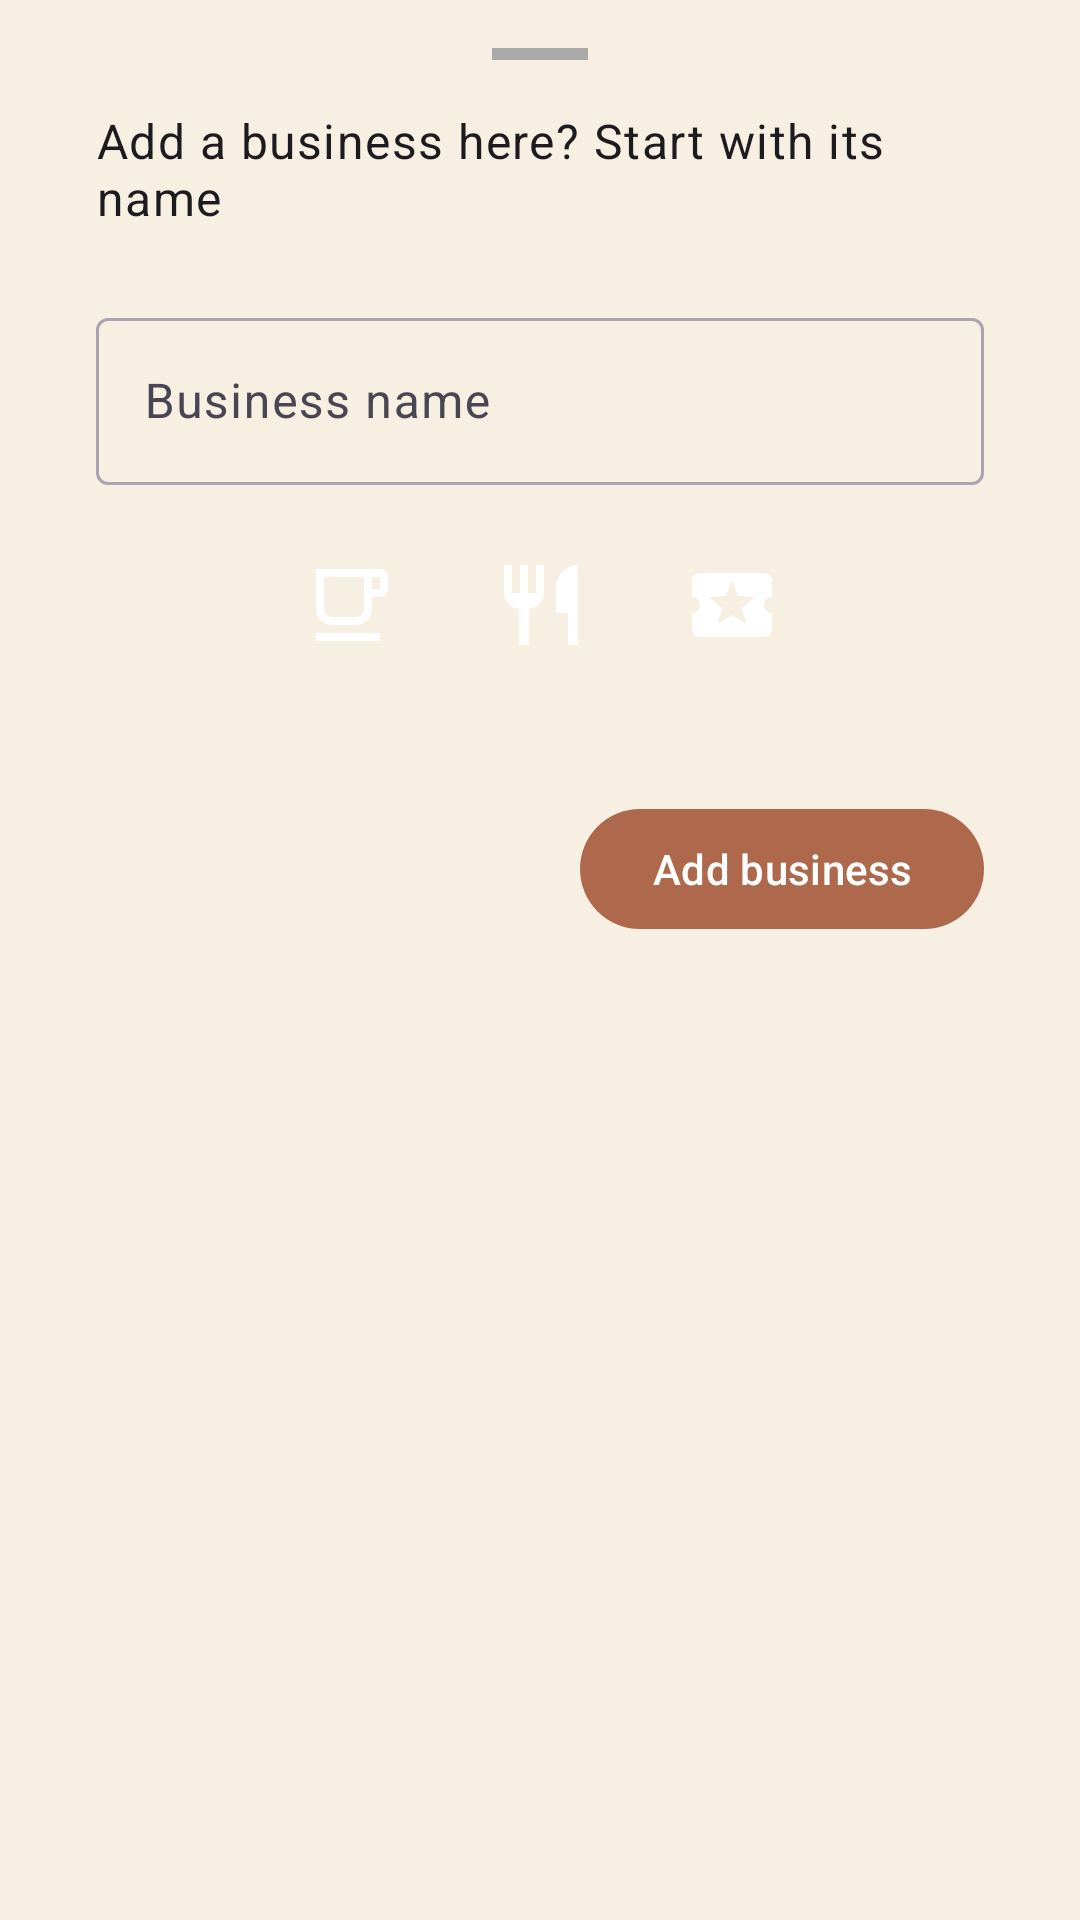

Icon bounding boxes for this 1080*1920 phone screenshot, format (x1, y1, x2, y2):
Activity: (692, 573, 772, 637)
Coffee: (316, 569, 388, 641)
Restaurant: (504, 565, 578, 645)
